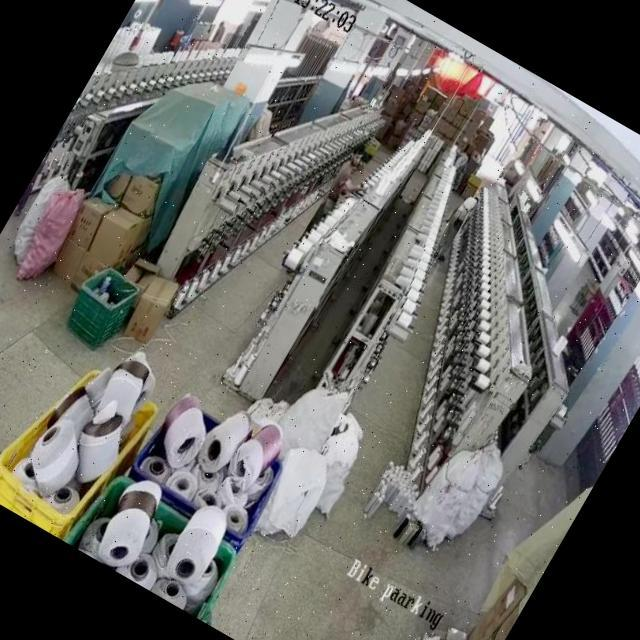person: (297, 138, 372, 248), (432, 188, 484, 262)
